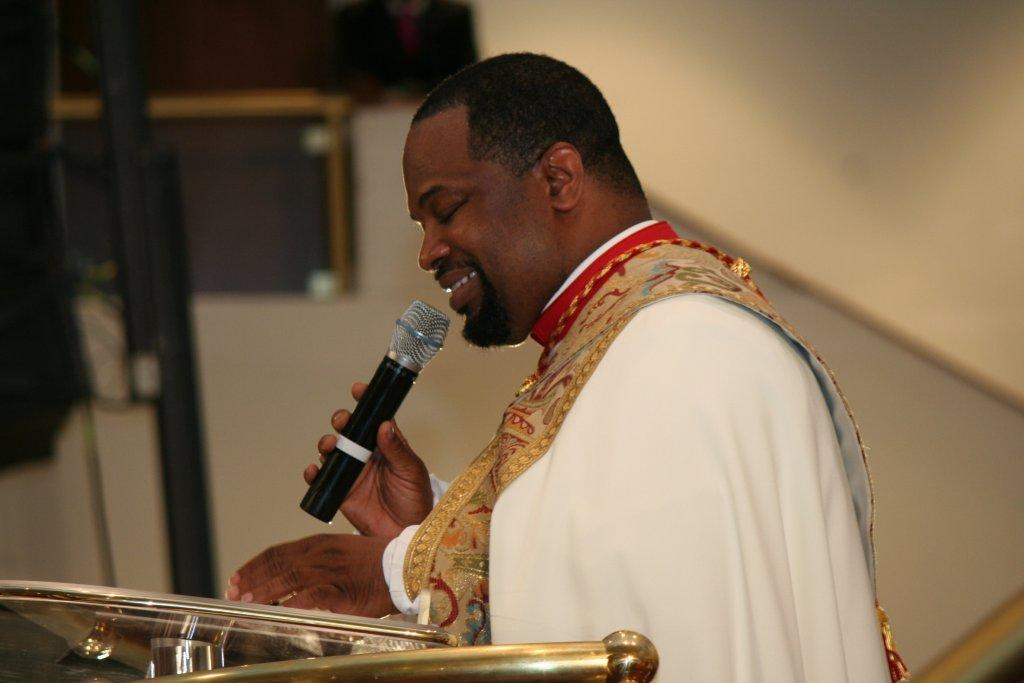face: (407, 117, 553, 345)
